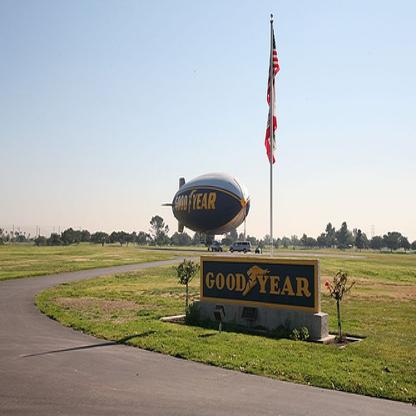Airship: (159, 169, 253, 249)
